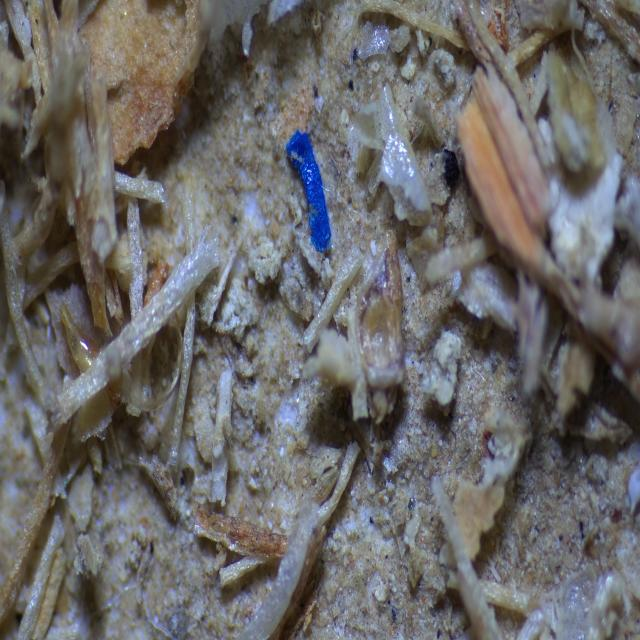microplastic: (281, 132, 340, 256)
